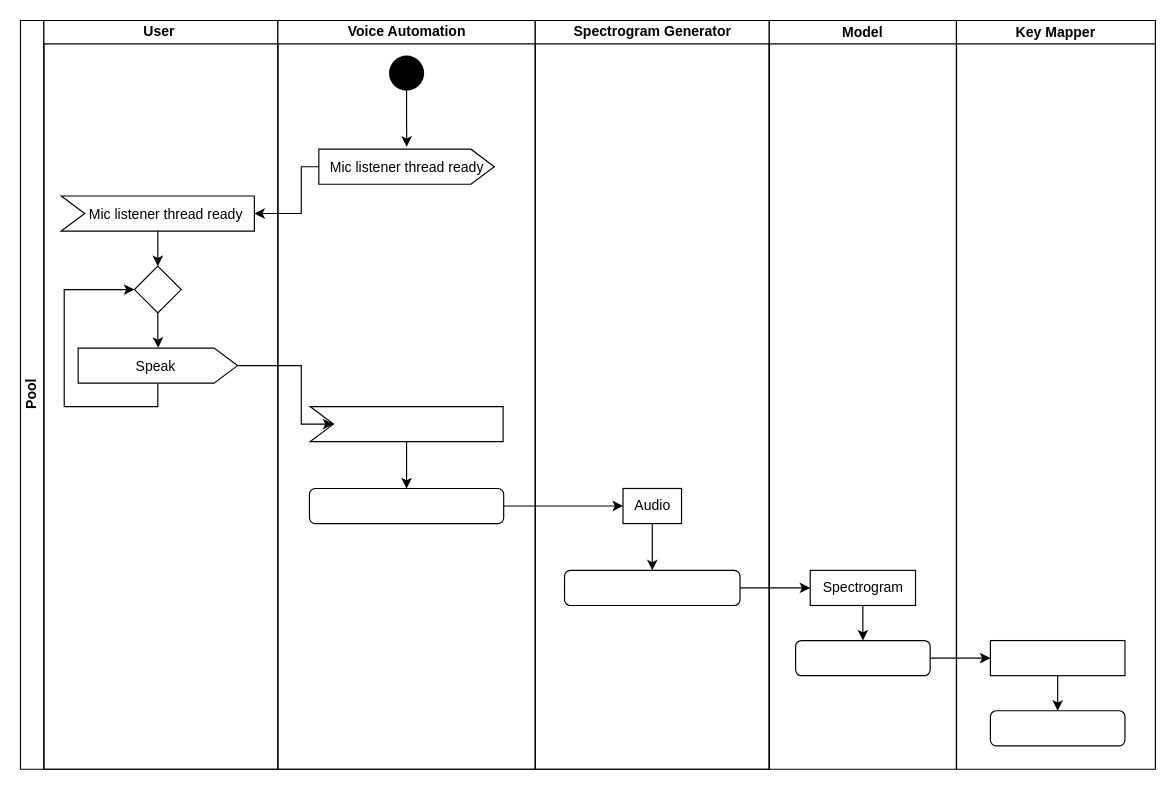
The diagram is 1176 pixels wide and 790 high, and some of its shapes have lost their labels. The shapes that lost their labels are listed below. From the top down, each one's centre as x and y in pixels, then its label:
At pixel 406 423: "Voice detected".
At pixel 406 505: "Voice detected callback".
At pixel 651 587: "Generate spectogram".
At pixel 862 657: "Model prediction".
At pixel 1057 657: "Predicted command".
At pixel 1057 728: "Key press".
